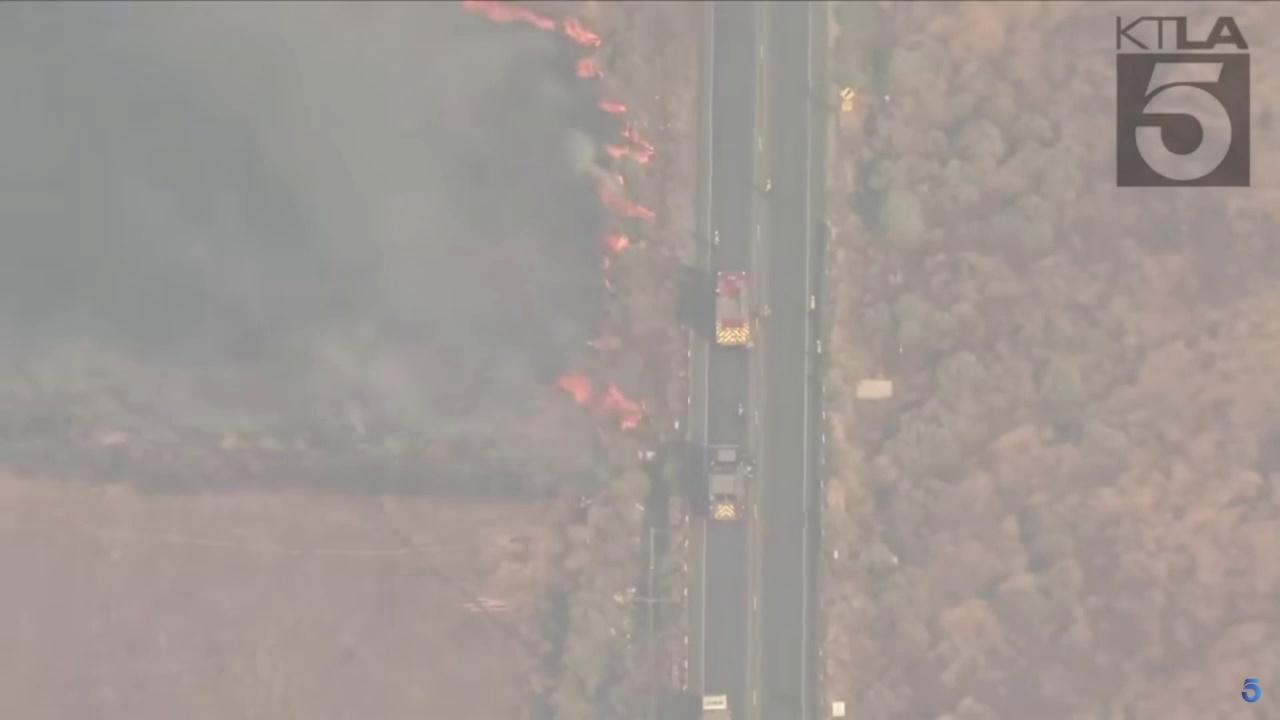fire: (459, 0, 604, 49), (553, 372, 650, 431), (597, 186, 658, 226), (603, 128, 657, 166), (575, 57, 608, 81), (595, 98, 629, 116), (599, 232, 629, 252)
smoke: (0, 0, 625, 480)
